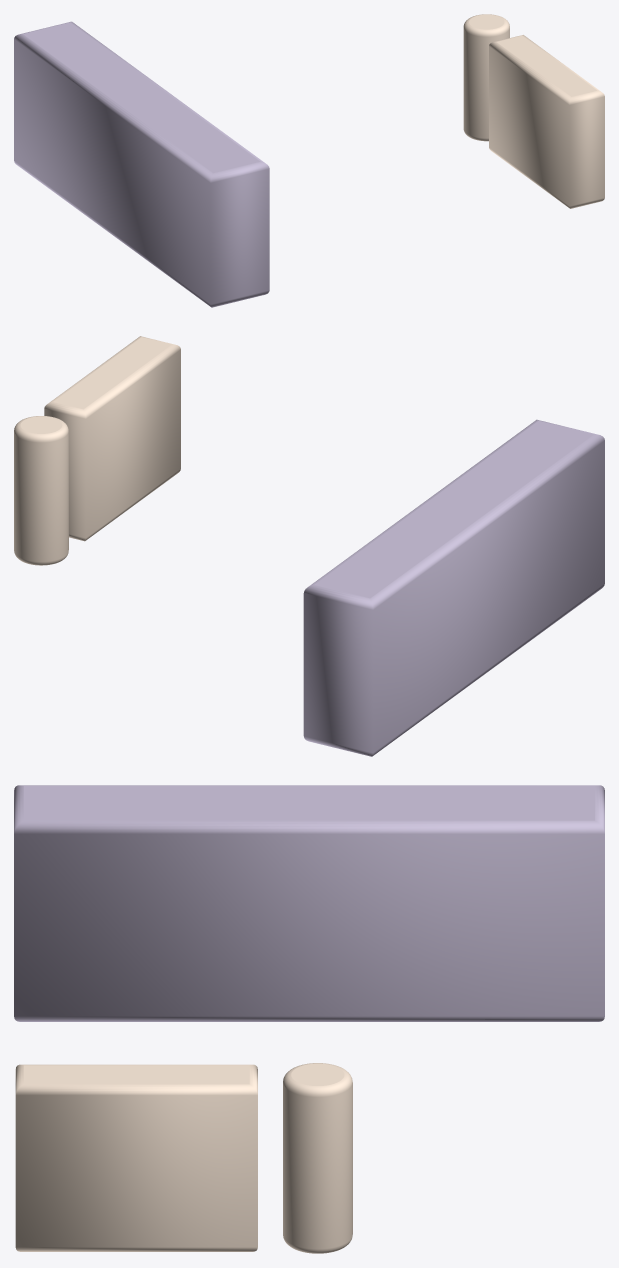
The model's file is vocal_I.glb.
3 views of the same model, one above another, from view 1: azimuth 30°, elevation 25°; view 2: azimuth 150°, elevation 25°; view 3: azimuth 270°, elevation 25° (orthographic). The views are drawn at different scales.
Visible parts, largest first — view 1: I_Mayuscula, i_minuscula; view 2: I_Mayuscula, i_minuscula; view 3: I_Mayuscula, i_minuscula.
Part boxes in pixels (x1,y1,x2,y2): I_Mayuscula: [14, 21, 269, 307]; i_minuscula: [463, 14, 604, 208]; I_Mayuscula: [303, 419, 604, 756]; i_minuscula: [14, 336, 180, 565]; I_Mayuscula: [14, 785, 604, 1021]; i_minuscula: [15, 1063, 352, 1253].
Size of the model in its own units: 2.06 by 0.66 by 1.77.
